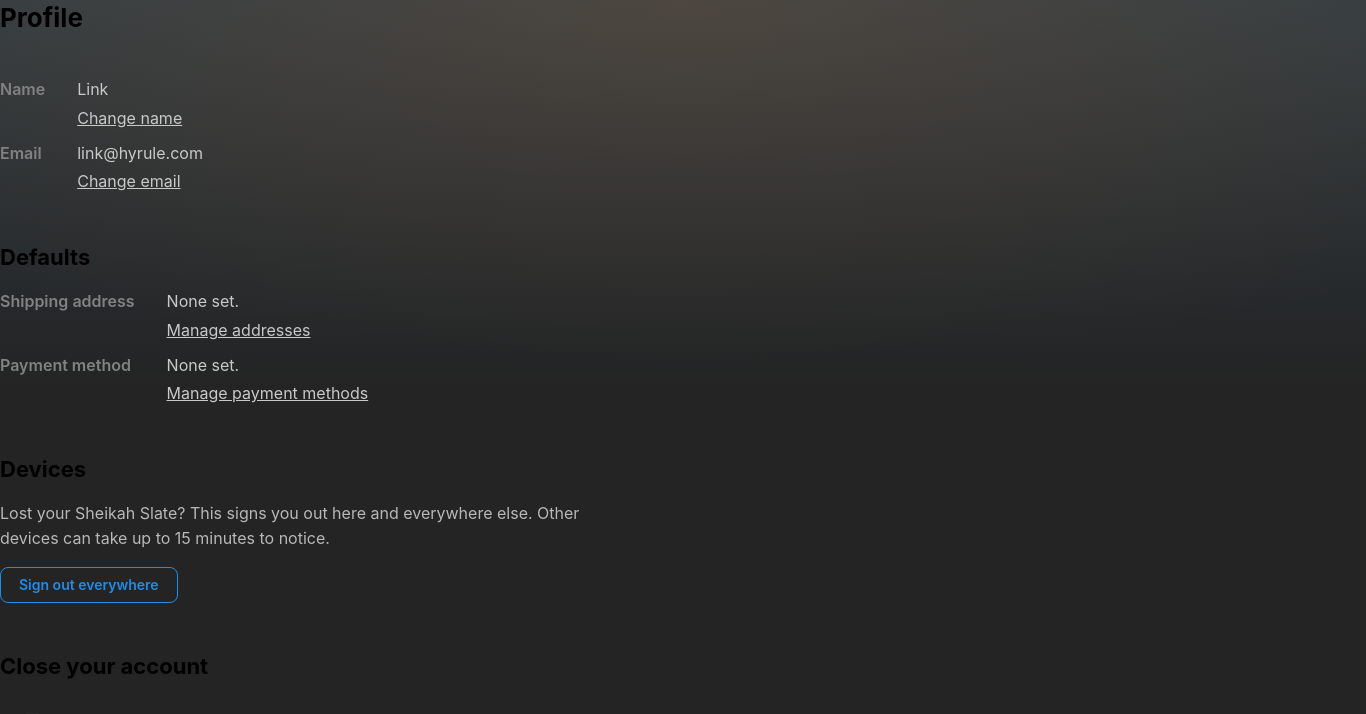
ProfileSection › says when another account has the new email
Click the button "Change email" at (129, 182), box [77,170,180,194]
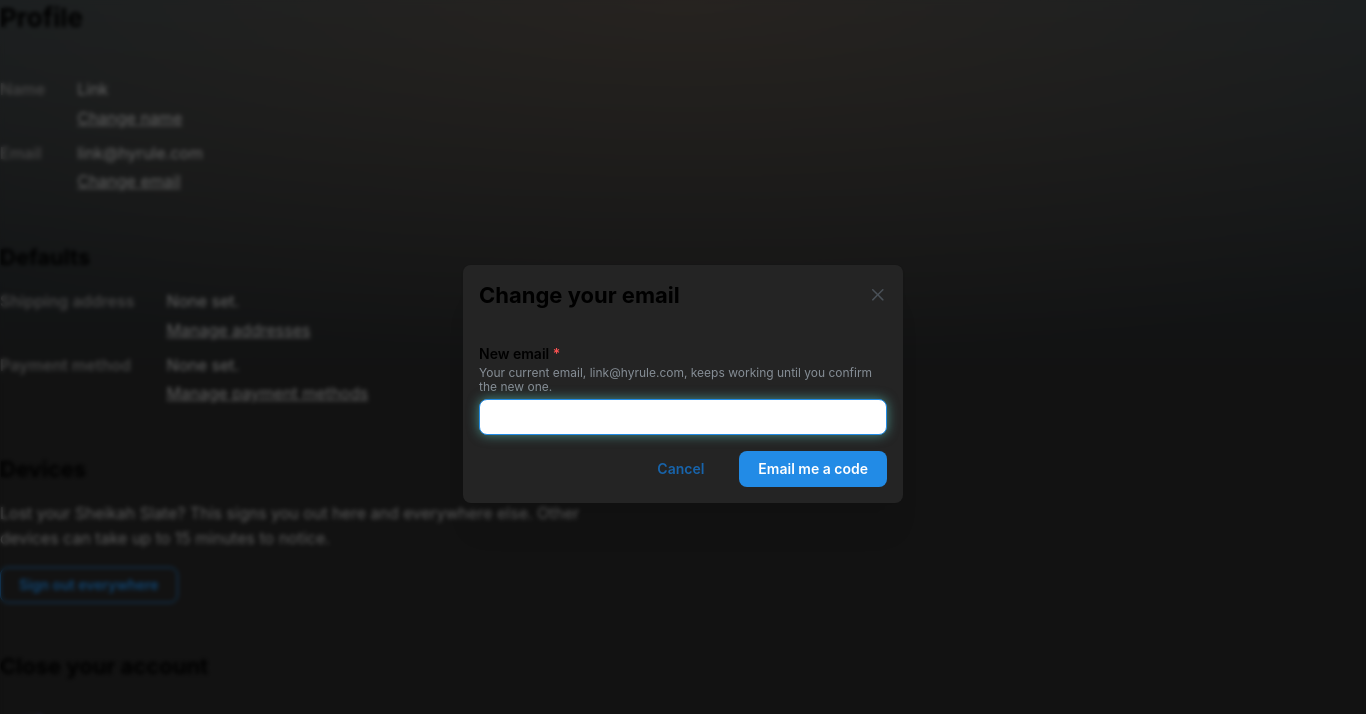
Type "zelda@hyrule.com" into the field labelled "New email *" at (683, 417), box [479,399,887,435]
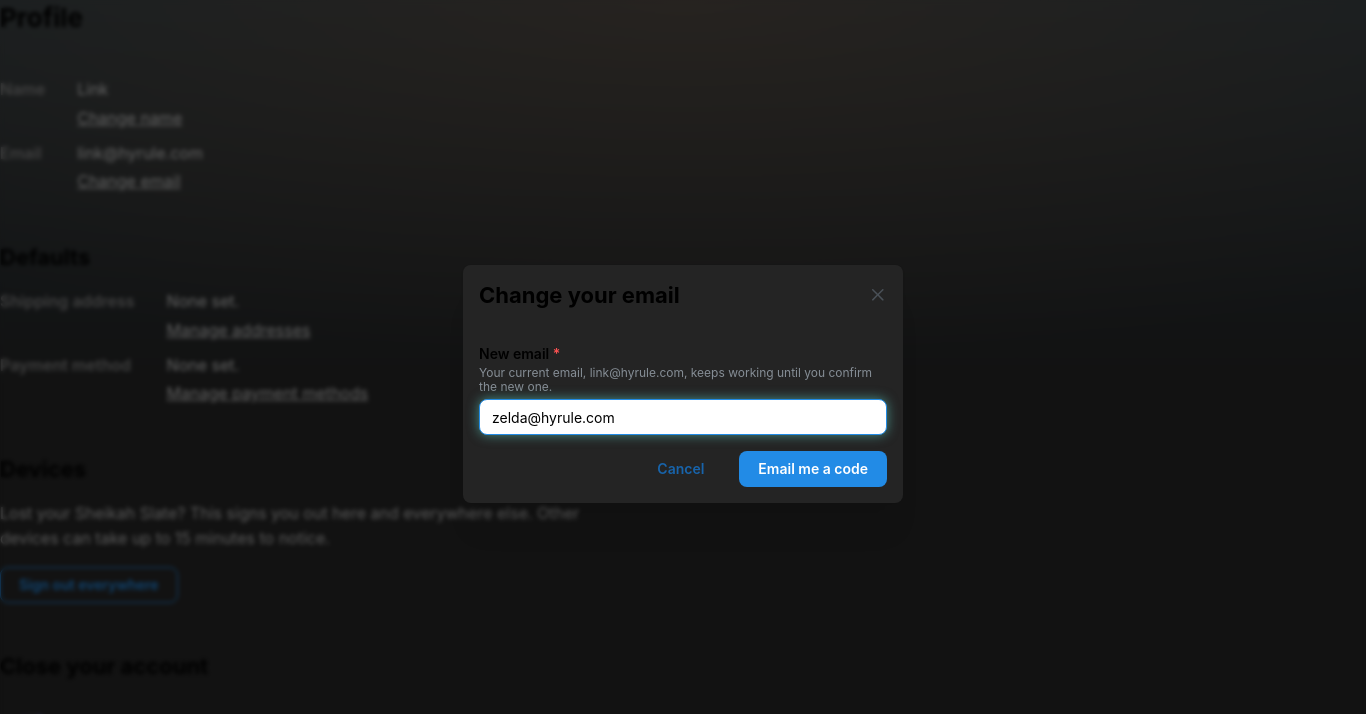
Click the button "Email me a code" at (813, 469), box [739,451,887,487]
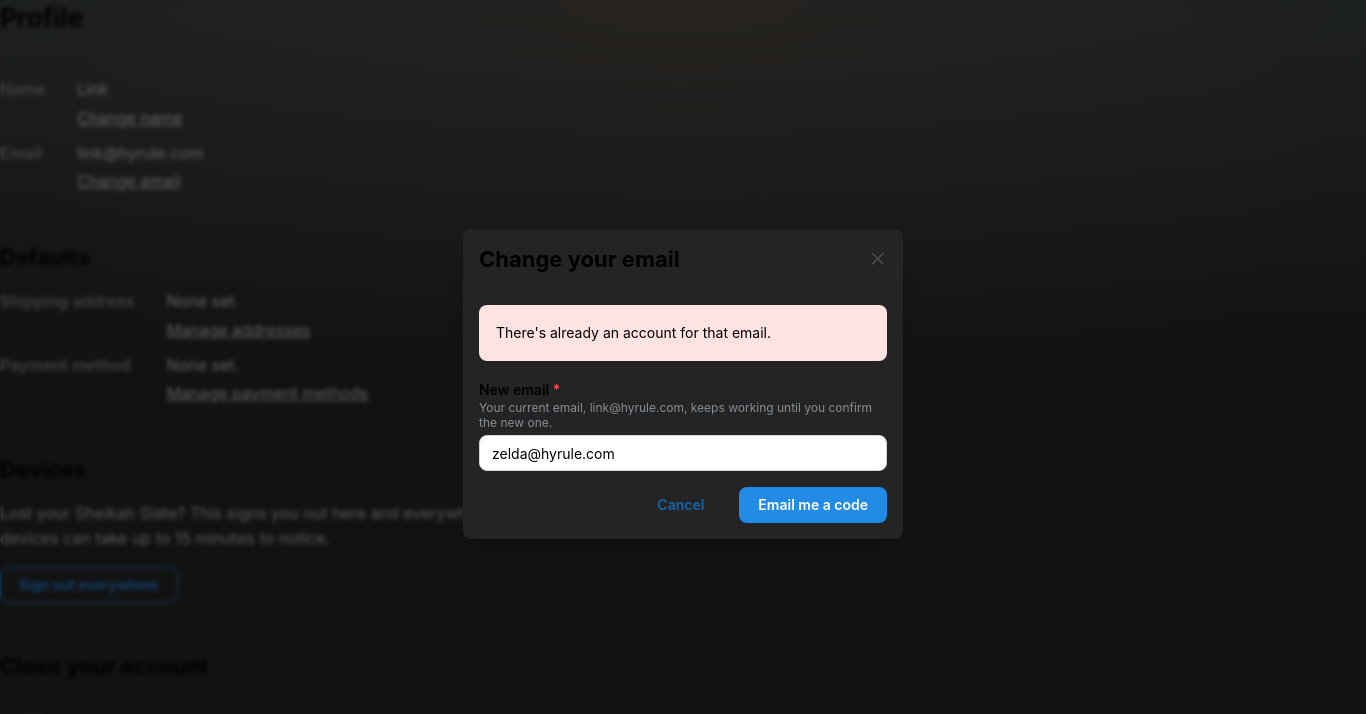
Expected: the text "There's already an account for that email." is shown, [496,324,771,341]
